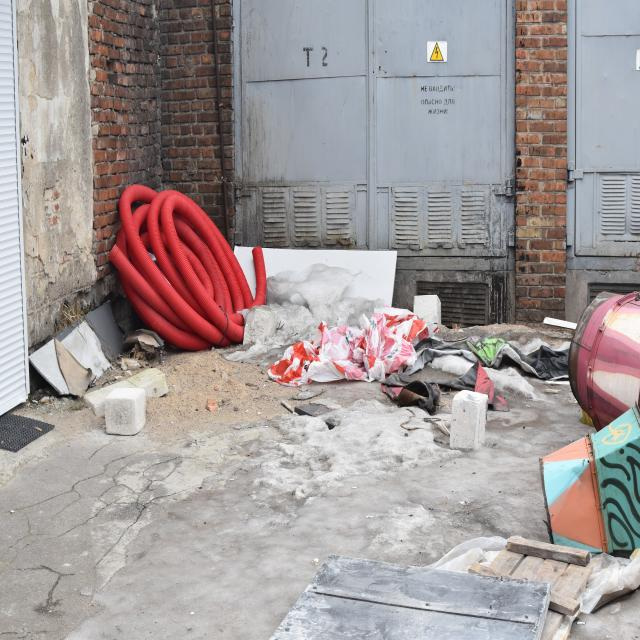entulho: (95, 182, 248, 356), (263, 559, 565, 640), (539, 400, 640, 556), (266, 308, 447, 382), (469, 540, 597, 636), (565, 282, 637, 444), (468, 331, 576, 382), (442, 358, 512, 416), (391, 372, 443, 413)
